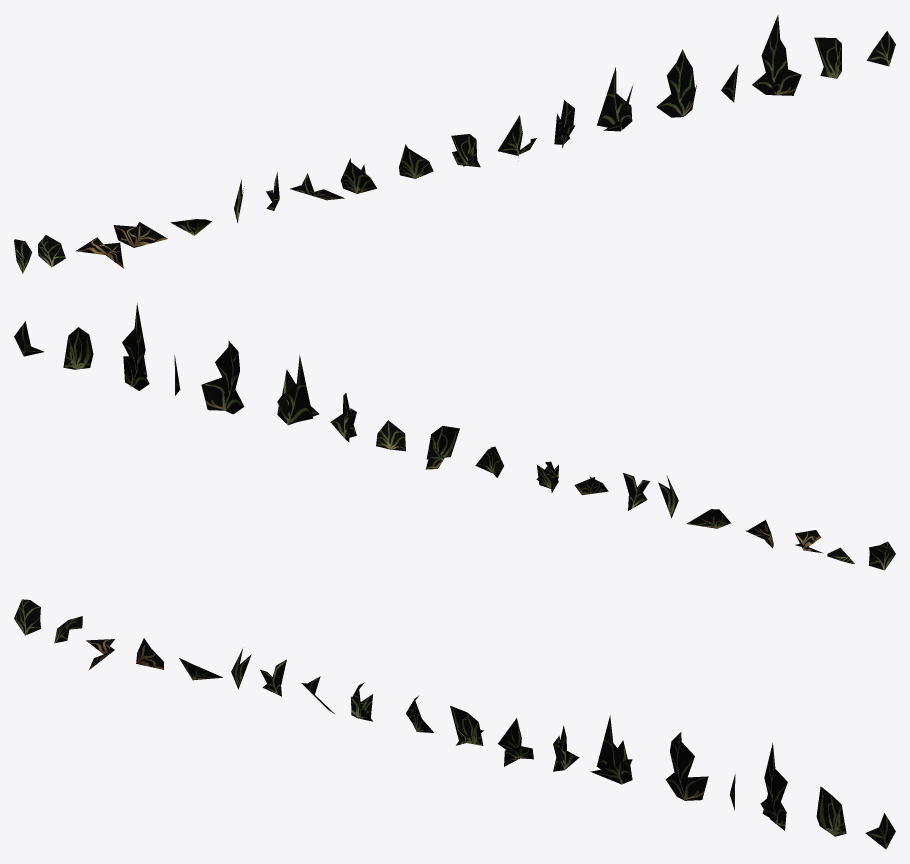
The model's file is grass-bermuda.glb.
The picture shows the model from 3 angles, top to bottom: view 1: azimuth 30°, elevation 25°; view 2: azimuth 150°, elevation 25°; view 3: azimuth 330°, elevation 25°; orthographic projection.
Visible parts, largest first — view 1: grass_bermuda_01_dead_a; view 2: grass_bermuda_01_dead_a; view 3: grass_bermuda_01_dead_a.
Boxes of the visible parts, x1,y1,x2,y2 form: grass_bermuda_01_dead_a: [14, 14, 895, 273]; grass_bermuda_01_dead_a: [14, 303, 895, 570]; grass_bermuda_01_dead_a: [14, 599, 895, 849].
Size of the model in its own units: 1.61 by 0.1513 by 0.114.
1 material, 1 textured.
